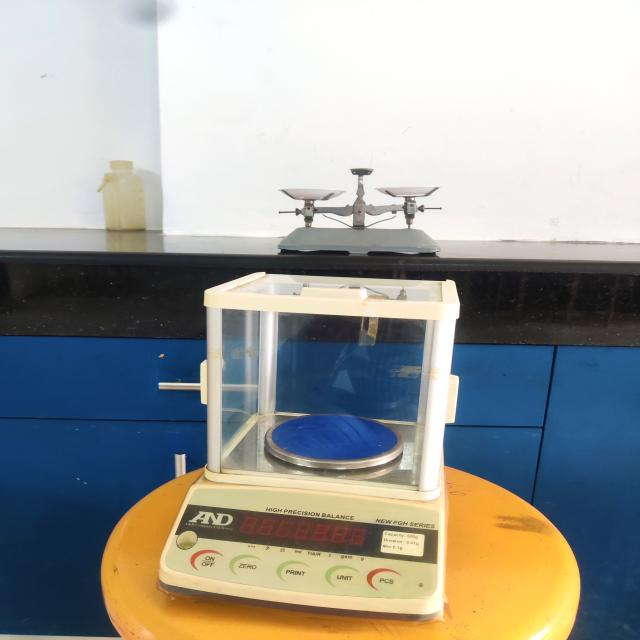Mechanical_Balance_Scale: (260, 142, 472, 277)
Precision_Weight_Scale: (136, 259, 486, 640)
